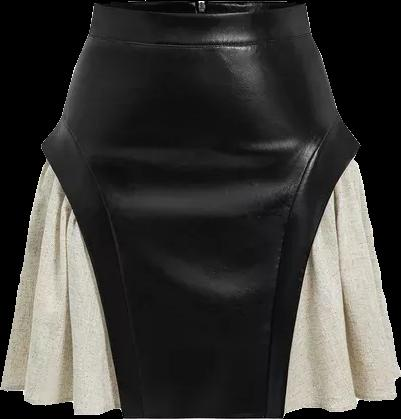Hemline: (287, 373, 400, 416), (0, 385, 122, 418)
Waistline: (39, 143, 361, 418), (60, 117, 147, 418), (260, 115, 341, 418), (85, 30, 312, 52), (93, 2, 305, 18)
